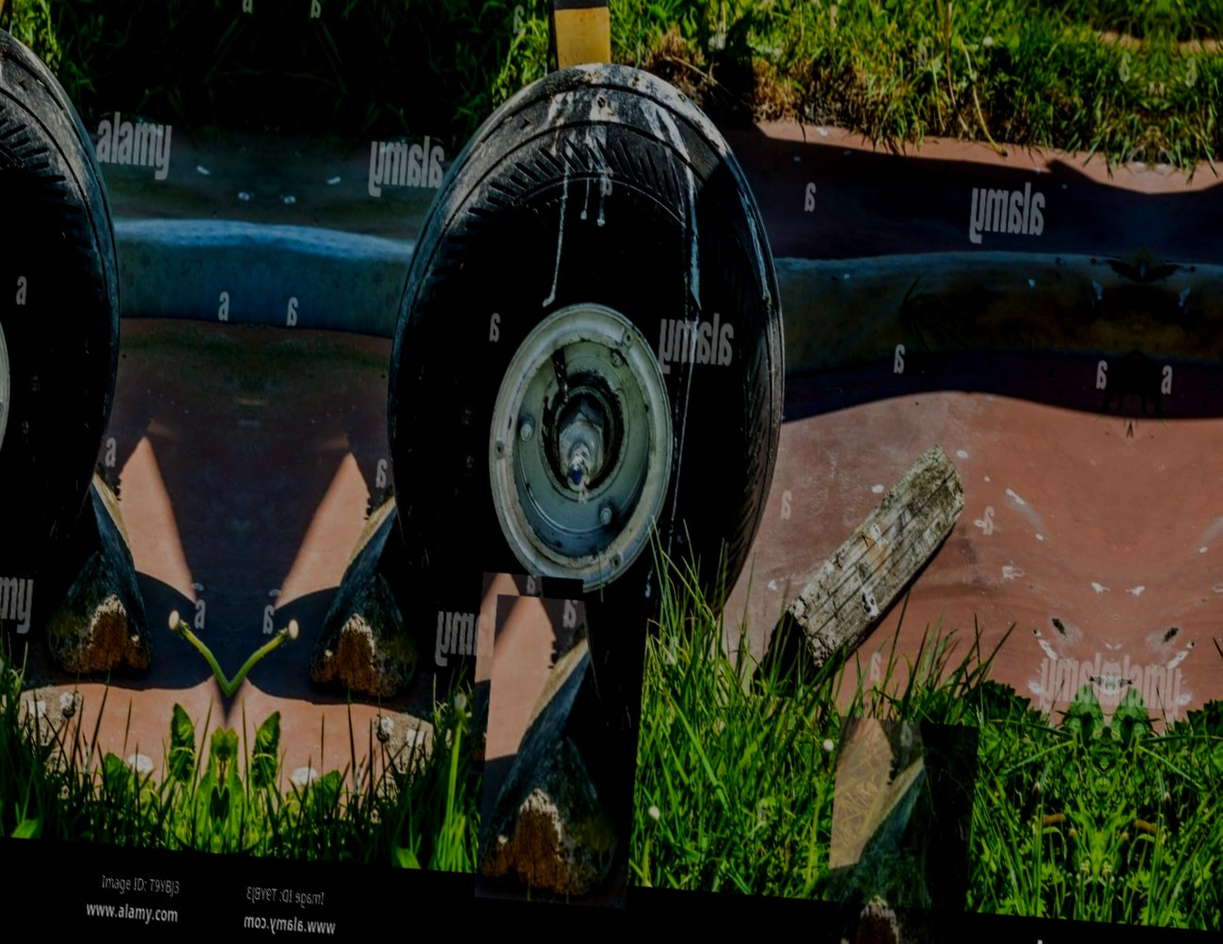chock: (764, 412, 972, 707), (475, 595, 649, 910), (819, 717, 980, 944), (33, 441, 169, 687), (307, 463, 443, 709), (468, 572, 584, 782)
wheel: (367, 49, 809, 697), (0, 0, 144, 646)
